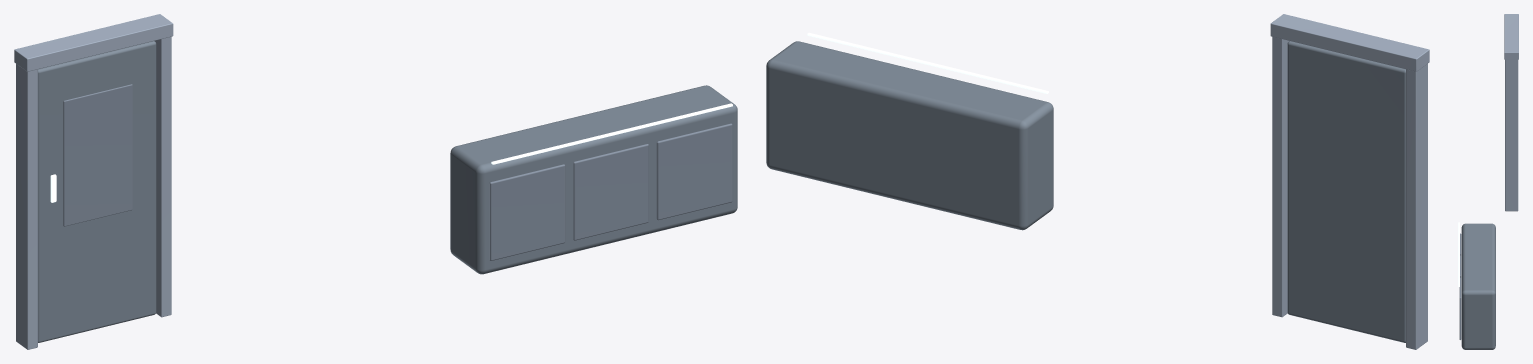
The model's file is south.glb.
The picture shows the model from 3 angles, left to right: view 1: azimuth 30°, elevation 25°; view 2: azimuth 150°, elevation 25°; view 3: azimuth 270°, elevation 25°; orthographic projection. The views are drawn at different scales.
Parts seen in each view (by area): view 1: orbital-observation-deck south; view 2: orbital-observation-deck south; view 3: orbital-observation-deck south.
Boxes of the visible parts, x1,y1,x2,y2 form: orbital-observation-deck south: (14, 14, 737, 349); orbital-observation-deck south: (766, 14, 1429, 349); orbital-observation-deck south: (1458, 14, 1518, 349).
Bounding box in the file's own units: 6.45 × 2.67 × 0.925.
